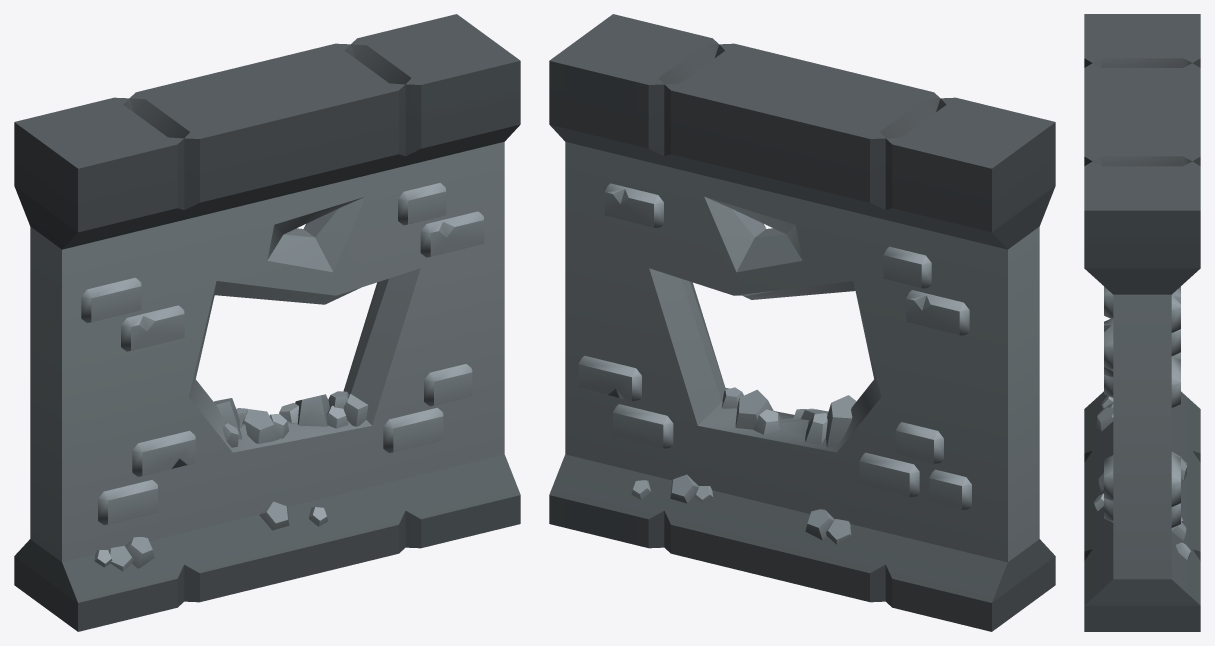
The model's file is d_kaykit_mur_brise.glb.
The picture shows the model from 3 angles, left to right: view 1: azimuth 30°, elevation 25°; view 2: azimuth 150°, elevation 25°; view 3: azimuth 270°, elevation 25°; orthographic projection. The views are drawn at different scales.
Visible parts, largest first — view 1: d_kaykit_mur_brise; view 2: d_kaykit_mur_brise; view 3: d_kaykit_mur_brise.
Boxes of the visible parts, left/top/right/bottom form: d_kaykit_mur_brise: left=14, top=14, right=520, bottom=631; d_kaykit_mur_brise: left=549, top=14, right=1055, bottom=631; d_kaykit_mur_brise: left=1084, top=14, right=1200, bottom=631.
Bounding box in the file's own units: 4 × 4 × 1.
Materials: 1 (1 with a texture image).
